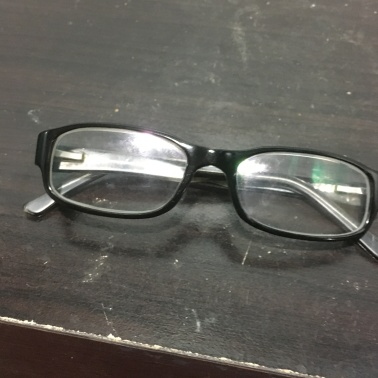glasses: (27, 119, 377, 261)
